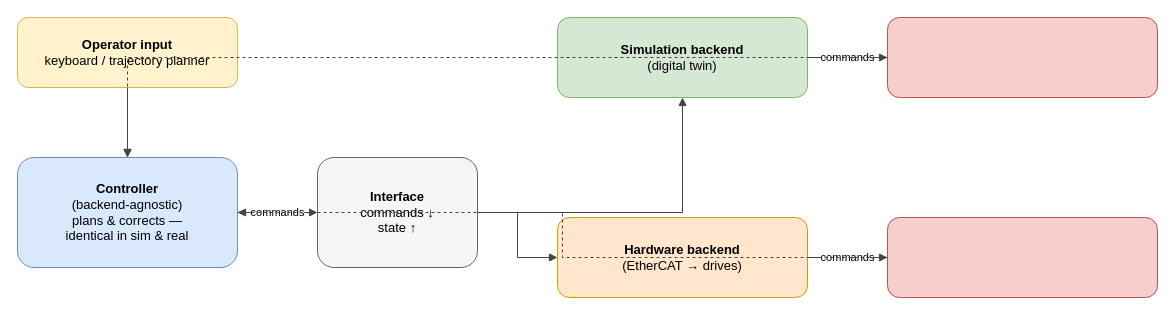
Some shapes in this 1175 by 315 pixel diagram are drawn without their labels. Here are the shapes that lost their labels. From the top down, the centre of each, then its label:
the point at 1022,57: Virtual machine physics + virtual sensors
the point at 1022,257: Physical machine winches + real sensors
